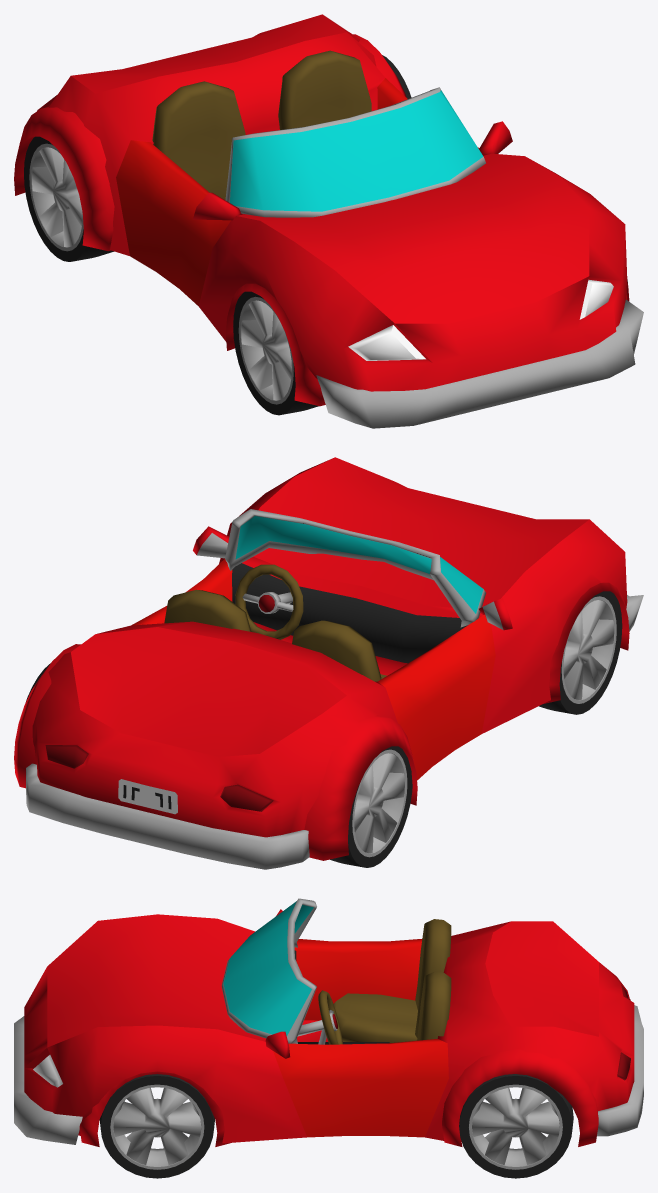
The model's file is Sports_Car.fbx.
3 views of the same model, one above another, from view 1: azimuth 30°, elevation 25°; view 2: azimuth 150°, elevation 25°; view 3: azimuth 270°, elevation 25° (orthographic). The views are drawn at different scales.
Parts seen in each view (by area): view 1: Cube, Cube.007, Cube.004, Cylinder.003, Cylinder.001, Torus.004, Torus.003; view 2: Cube, Cylinder.003, Cylinder.001, Cube.007, Torus.003, Torus.004, Torus.005, Cube.004; view 3: Cube, Torus.002, Torus.001, Cylinder.006, Cylinder.005, Cube.006, Cube.004, Cube.007, Torus.005.
Part boxes in pixels (box(x1,y1,x2,y2)): Cube: box(14, 14, 643, 428); Cube.007: box(152, 81, 245, 199); Cube.004: box(278, 50, 371, 129); Cylinder.003: box(241, 300, 291, 400); Cylinder.001: box(32, 147, 82, 247); Torus.004: box(233, 291, 318, 415); Torus.003: box(24, 136, 114, 261); Cube: box(14, 457, 643, 869); Cylinder.003: box(563, 600, 614, 699); Cylinder.001: box(354, 753, 404, 853); Cube.007: box(292, 620, 381, 681); Torus.003: box(330, 746, 412, 867); Torus.004: box(539, 591, 622, 714); Torus.005: box(235, 564, 303, 639); Cube.004: box(164, 589, 251, 631); Cube: box(14, 898, 643, 1146); Torus.002: box(459, 1074, 573, 1178); Torus.001: box(99, 1074, 214, 1178); Cylinder.006: box(472, 1088, 559, 1164); Cylinder.005: box(113, 1088, 201, 1164); Cube.006: box(333, 993, 417, 1042); Cube.004: box(417, 971, 451, 1040); Cube.007: box(415, 919, 451, 1037); Torus.005: box(297, 990, 342, 1044).
Size of the model in its own units: 213 by 122 by 405.
